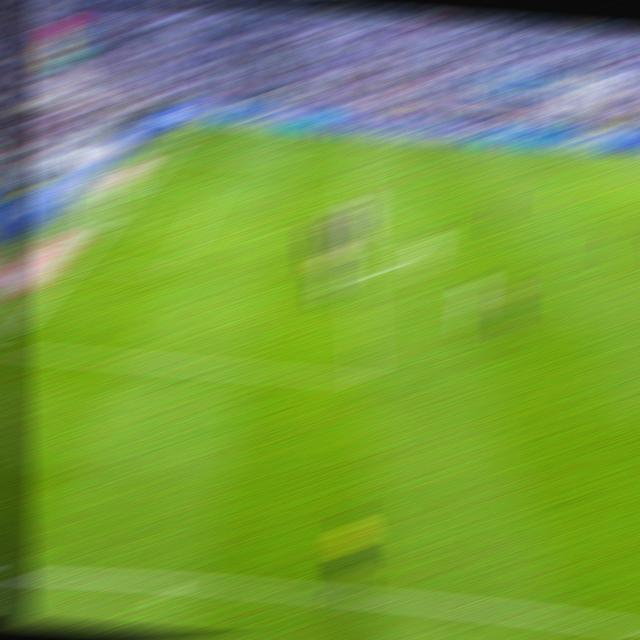bigarea_bottom_inner: (158, 261, 185, 282)
bigarea_top_inner: (343, 166, 365, 173)
bigarea_top_outter: (162, 148, 184, 155)
corner: (186, 122, 209, 127)
smallarea_bottom_outter: (64, 255, 88, 269)
smallarea_top_inner: (203, 185, 227, 195)
smallarea_top_outter: (134, 177, 158, 186)
